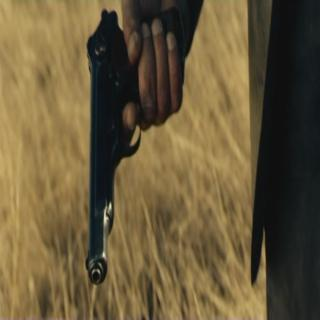gun: (85, 7, 184, 284)
